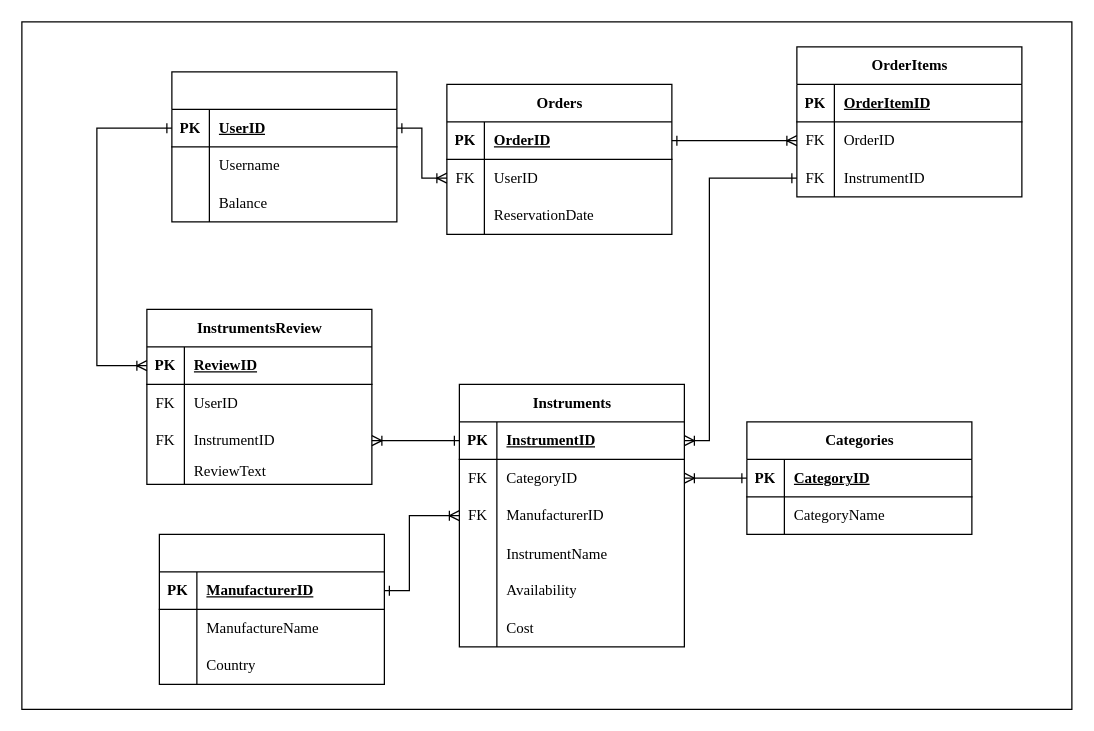
The diagram is 1094 pixels wide and 731 high, and some of its shapes have lost their labels. Each missing label, with the box of its shape:
Manufacturers: (158, 533, 384, 684)
Users: (171, 71, 397, 222)
